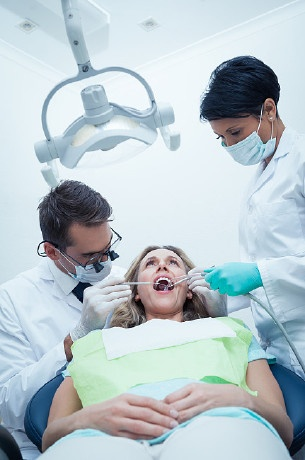Mask: (212, 121, 258, 166)
